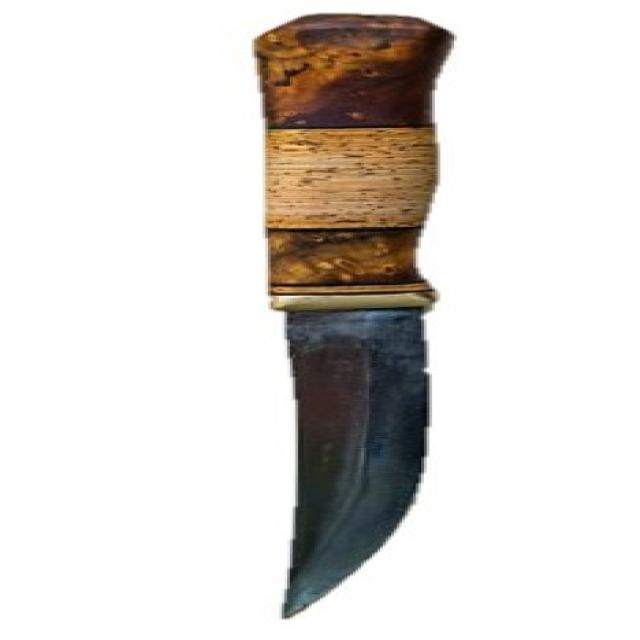knife: (243, 9, 458, 626)
